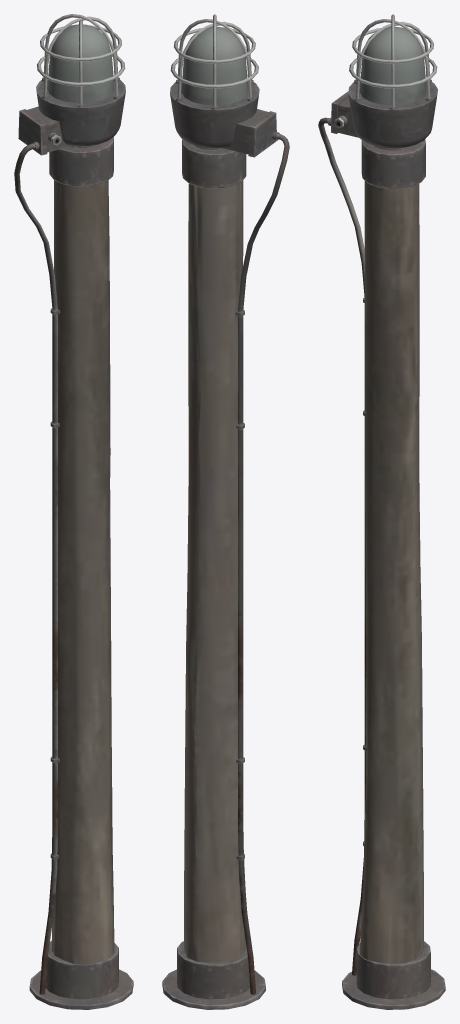
The model's file is SM_LampStand_53ceb3.glb.
The picture shows the model from 3 angles, left to right: view 1: azimuth 30°, elevation 25°; view 2: azimuth 150°, elevation 25°; view 3: azimuth 330°, elevation 25°; orthographic projection.
Size of the model in its own units: 0.1802 by 1.46 by 0.143.
1 material, 1 textured.
